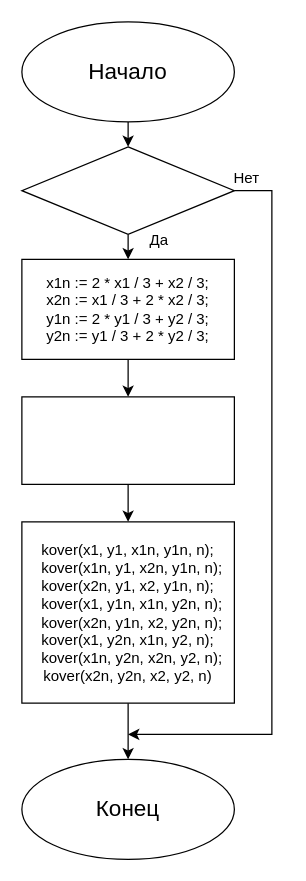
Image size: 306x881. Some labels were removed from this diagram. The shapes that lost their labels are listed below. From the top down, each one's centre as x and y in pixels, then its label:
pixel 127 190: abs(x1 - x2) > n
pixel 127 440: Rectangle(Round(x1n), Round(y1n), Round(x2n), Round(y2n));
